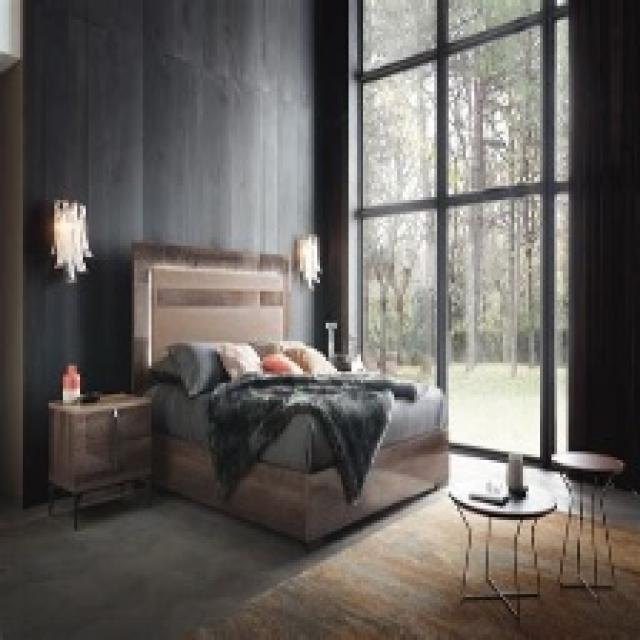Bed: (128, 240, 448, 551)
